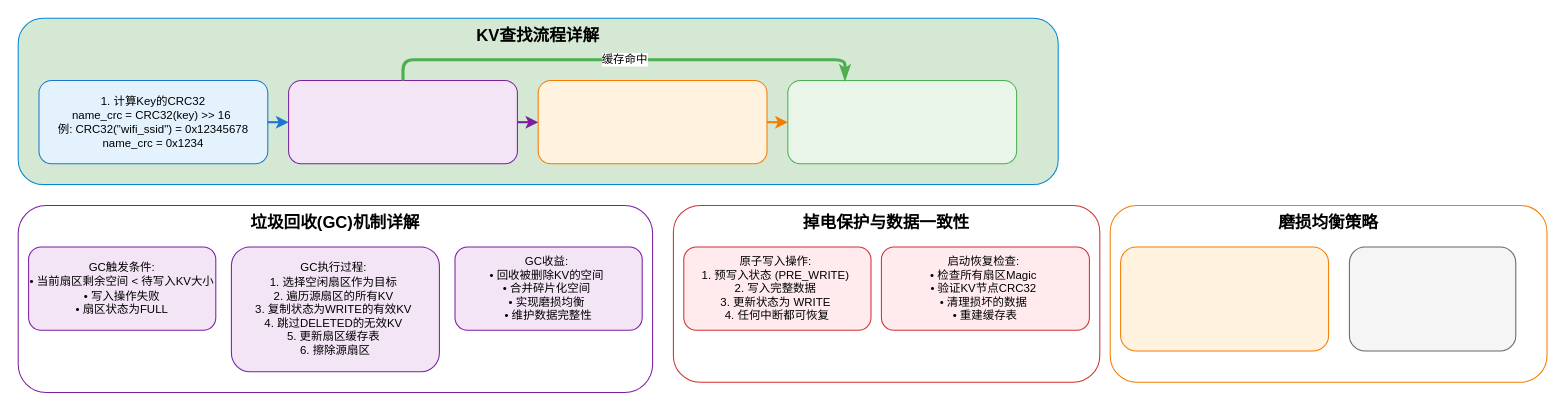
This 1565x411 diagram has some shape labels left out. Each missing label, with the centre of its shape:
"2. 在KV缓存表中查找 遍历64个缓存槽位 比较name_crc 缓存命中: 直接返回地址 缓存未命中: 进入步骤3" belongs at (x=402, y=122).
"3. Flash遍历查找 从当前使用扇区开始 逐个读取KV节点头部 检查Magic和Status 比较Key名称" belongs at (x=652, y=122).
"4. 更新缓存表 找到有效KV后: • 更新KV缓存表 • 增加active计数 • LRU替换策略" belongs at (x=902, y=122).
"均衡策略: • 扇区轮转分配 • 优先使用空扇区 • 避免热点扇区 • GC触发扇区迁移 • 延长Flash寿命" belongs at (x=1224, y=298).
"状态图例: 🟢 EMPTY - 空扇区 🟡 USING - 使用中 🔴 FULL - 已满 🟦 WRITE - 有效KV 🟥 DELETED - 已删除" belongs at (x=1432, y=298).
